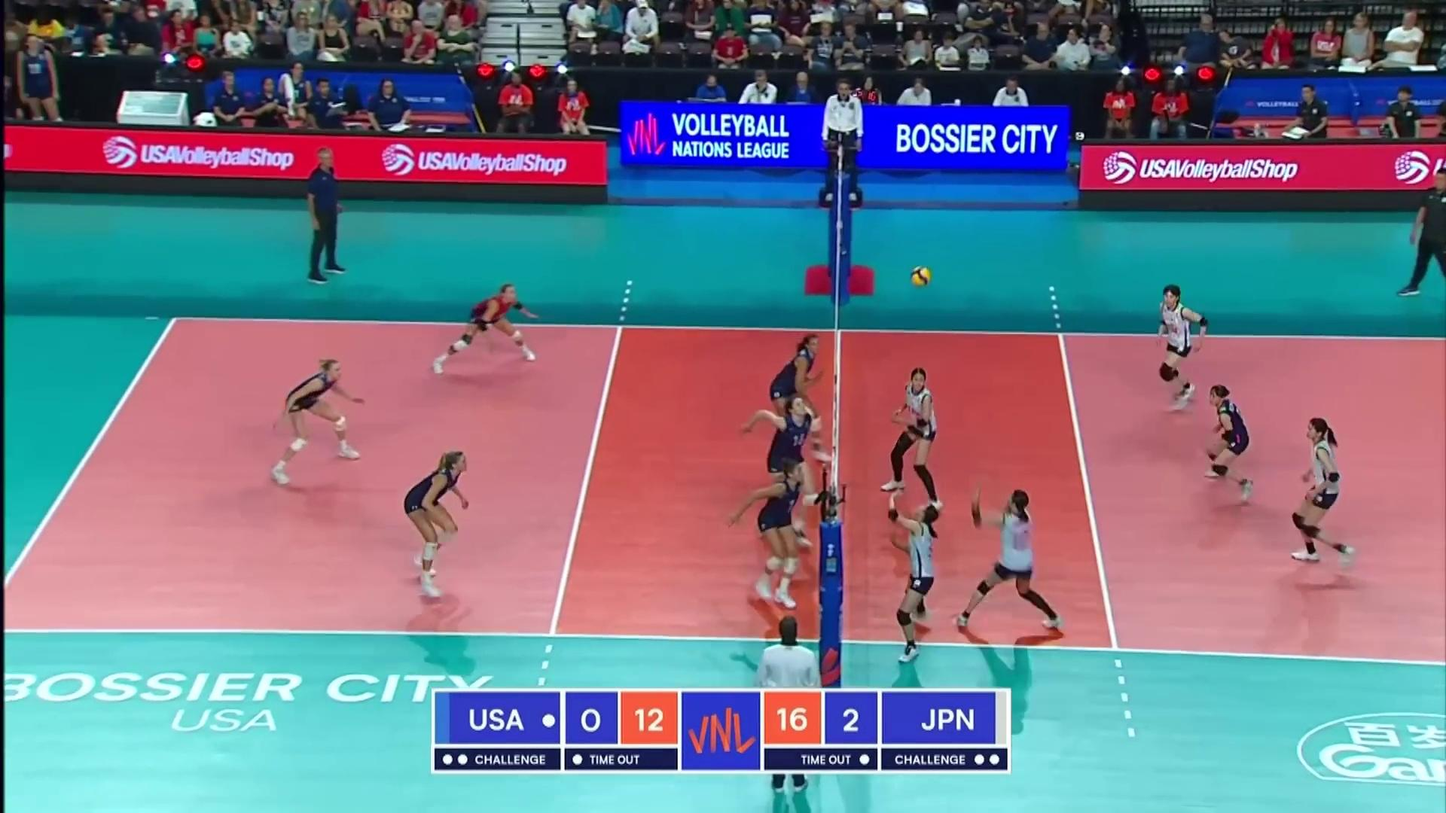player: (956, 488, 1070, 636), (735, 395, 818, 548), (275, 358, 369, 484), (730, 459, 807, 605), (407, 452, 479, 606), (877, 498, 942, 662), (1285, 417, 1351, 566), (433, 282, 542, 369), (770, 332, 831, 472), (879, 368, 937, 498), (1203, 384, 1261, 504), (1154, 287, 1210, 409)
refree: (756, 621, 820, 795), (820, 79, 866, 201)
